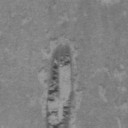oxide scale of plate system: (45, 42, 76, 128)
